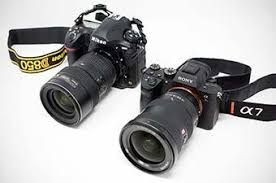camera: (120, 67, 223, 174), (51, 19, 142, 117)
